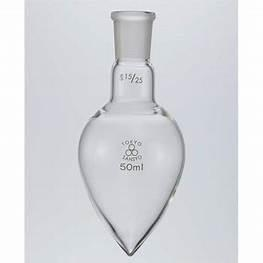Pear shaped flask: (79, 7, 188, 255)
